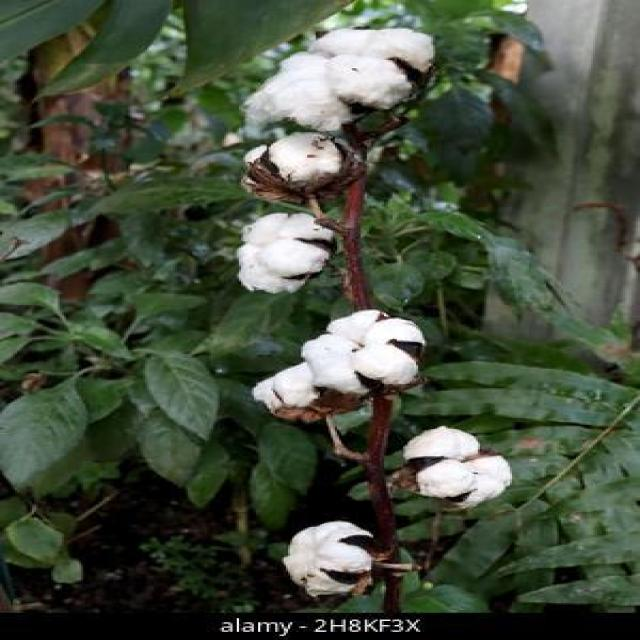Late_blight: (247, 27, 433, 132), (301, 309, 428, 396), (234, 210, 334, 294), (239, 136, 366, 202), (401, 429, 509, 504), (280, 522, 372, 596), (250, 361, 350, 423)
